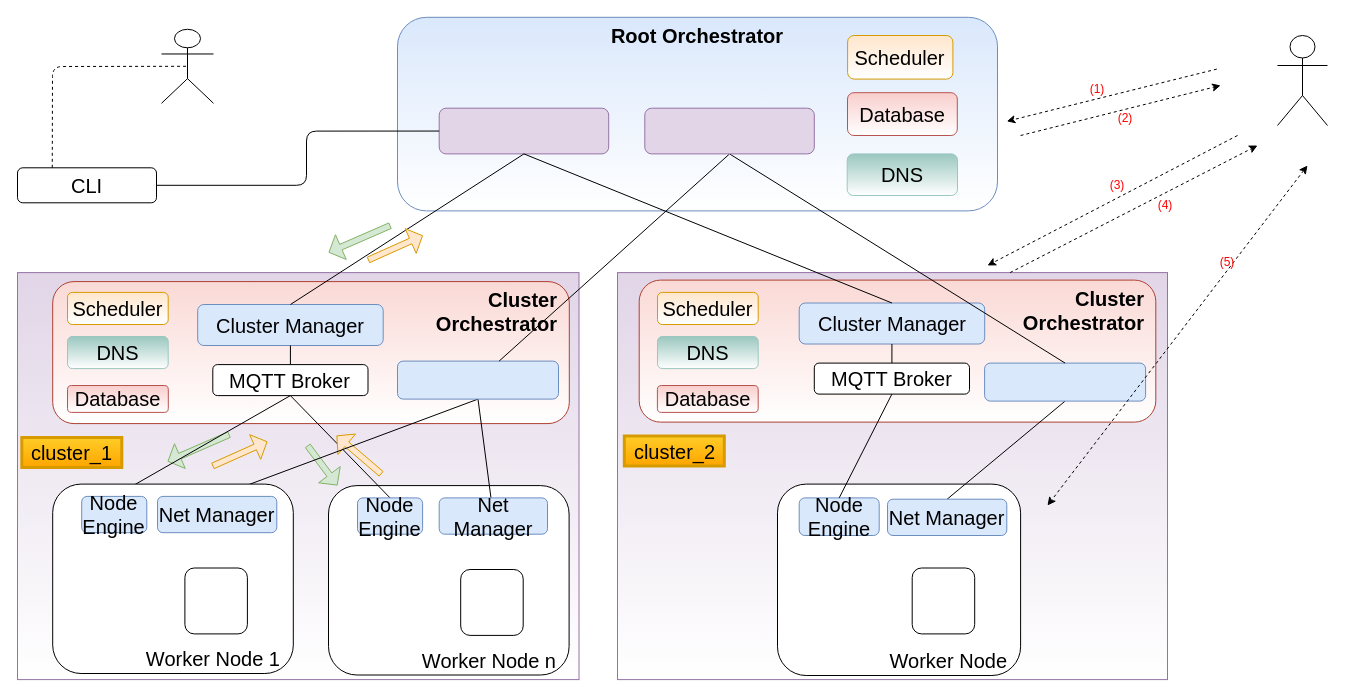
Some shapes in this 1345 by 698 pixel diagram are drawn without their labels. Each missing label, with the centre of its shape:
"Client" goes at (x=1302, y=80).
"Cluster Balancer" goes at (x=1065, y=381).
"Cluster service manager" goes at (x=477, y=379).
"Developer/ Operator" goes at (x=187, y=65).
"Root service manager" goes at (x=729, y=130).
"S i h" goes at (x=943, y=600).
"S i y" goes at (x=215, y=600).
"S j y" goes at (x=491, y=601).
"System Manager" goes at (x=523, y=130).
